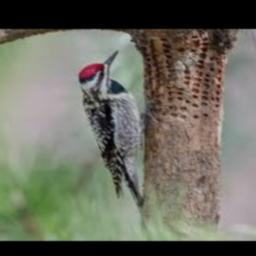Woodpecker: (80, 49, 146, 210)
